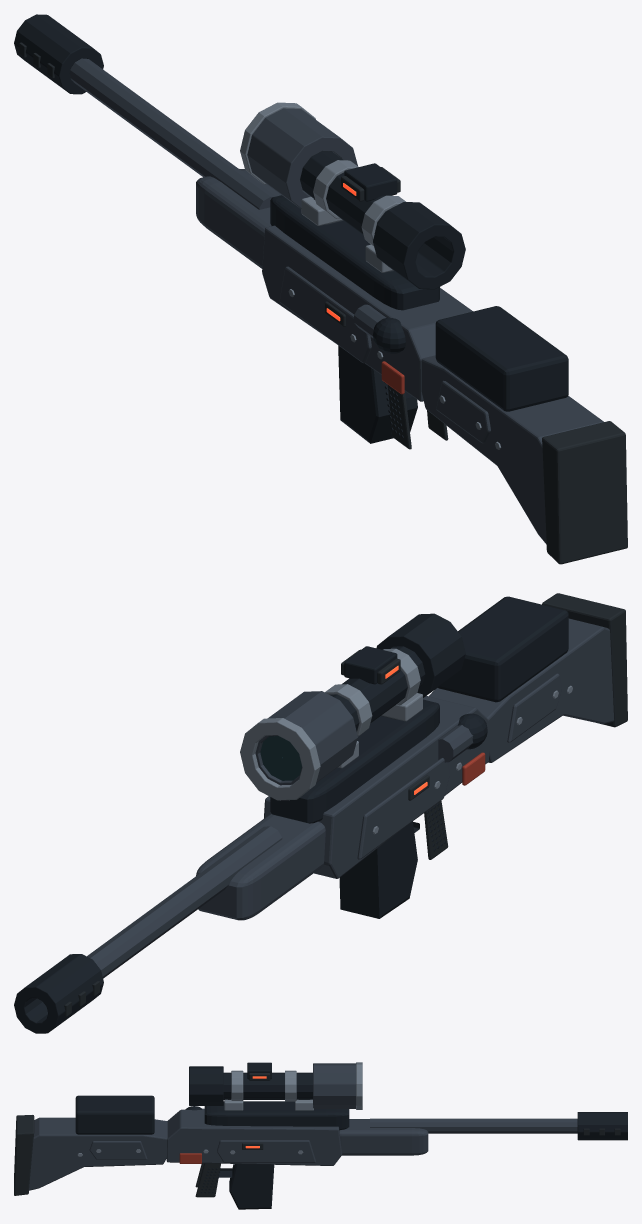
The model's file is sniper.glb.
3 renders of one model, top to bottom at view 1: azimuth 30°, elevation 25°; view 2: azimuth 150°, elevation 25°; view 3: azimuth 270°, elevation 25°, orthographic. The views are drawn at different scales.
Visible parts, largest first — view 1: sniper; view 2: sniper; view 3: sniper.
Boxes of the visible parts, box(x1,y1,x2,y2) form: sniper: box(14, 14, 627, 564); sniper: box(14, 593, 627, 1033); sniper: box(14, 1062, 627, 1209).
Bounding box in the file's own units: 0.2143 × 0.5292 × 2.1.
